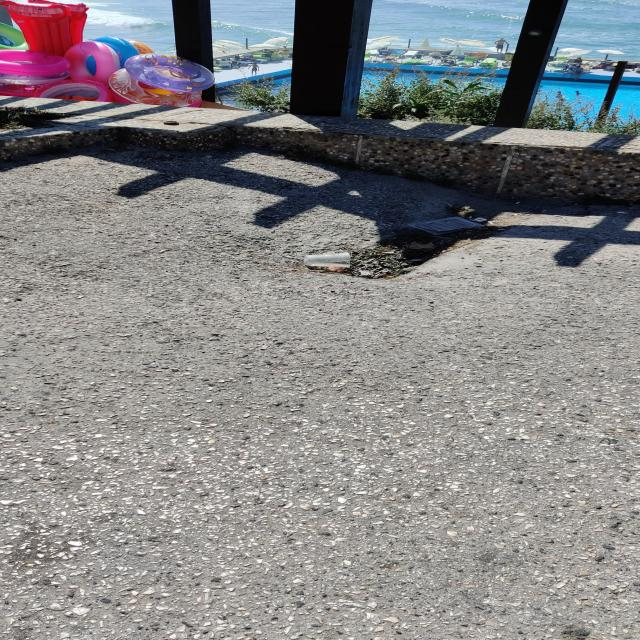litter: (407, 217, 485, 235), (302, 252, 350, 267), (472, 217, 487, 222), (204, 154, 213, 157), (617, 212, 627, 214), (515, 202, 518, 205)
